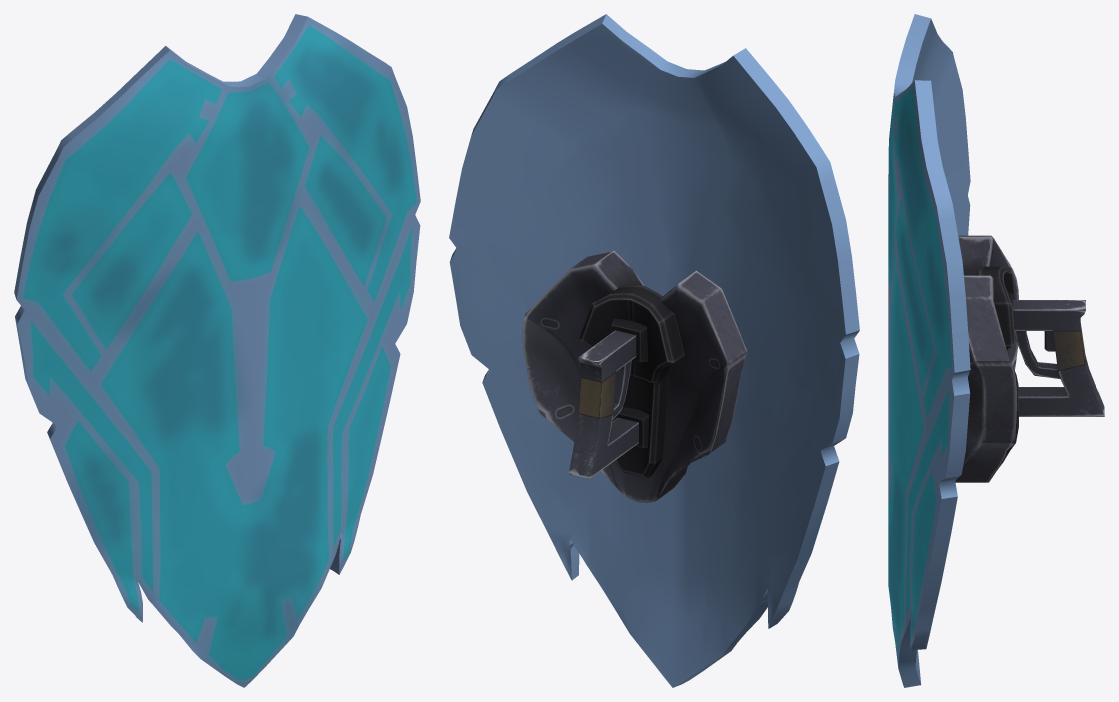
Rendered from Stylised_Tank_LightShieldCombined_Model.fbx.
The picture shows the model from 3 angles, left to right: view 1: azimuth 30°, elevation 25°; view 2: azimuth 150°, elevation 25°; view 3: azimuth 270°, elevation 25°; orthographic projection. The views are drawn at different scales.
Visible parts, largest first — view 1: Stylised_Tank_LightShieldCombined_Model; view 2: Stylised_Tank_LightShieldCombined_Model; view 3: Stylised_Tank_LightShieldCombined_Model.
Boxes of the visible parts, bbox=[...] form: Stylised_Tank_LightShieldCombined_Model: bbox=[14, 14, 420, 687]; Stylised_Tank_LightShieldCombined_Model: bbox=[449, 14, 859, 687]; Stylised_Tank_LightShieldCombined_Model: bbox=[888, 14, 1104, 687].
Bounding box in the file's own units: 88.36 × 136 × 41.52.
